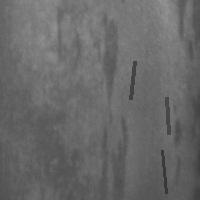inclusion: (93, 6, 130, 197), (161, 100, 188, 187), (53, 4, 86, 73), (171, 1, 199, 64), (160, 148, 168, 195), (128, 59, 136, 101), (164, 95, 170, 136)
